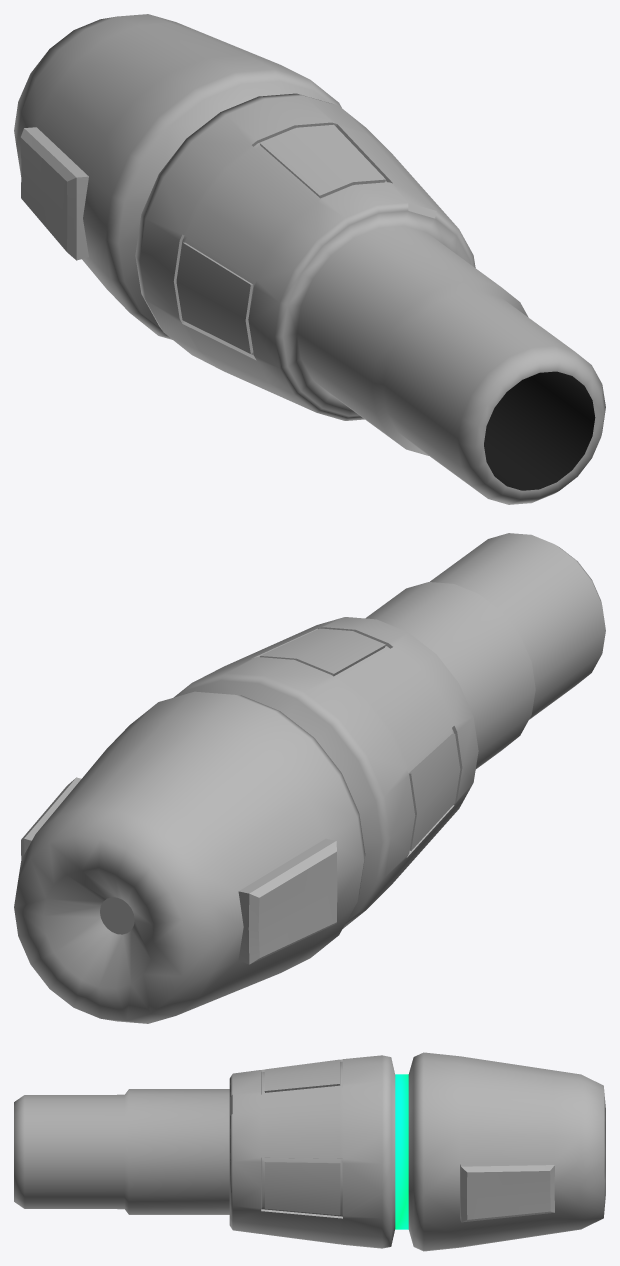
The model's file is hidari_ude.fbx.
3 views of the same model, one above another, from view 1: azimuth 30°, elevation 25°; view 2: azimuth 150°, elevation 25°; view 3: azimuth 270°, elevation 25° (orthographic). The views are drawn at different scales.
Parts seen in each view (by area): view 1: silver:buster_hand:ryouude2:pCylinder1; view 2: silver:buster_hand:ryouude2:pCylinder1; view 3: silver:buster_hand:ryouude2:pCylinder1.
Part boxes in pixels (<box>): silver:buster_hand:ryouude2:pCylinder1: <box>14,14,605,504</box>; silver:buster_hand:ryouude2:pCylinder1: <box>14,533,605,1023</box>; silver:buster_hand:ryouude2:pCylinder1: <box>14,1052,605,1251</box>.
Size of the model in its own units: 9.94 by 9.53 by 28.13.
